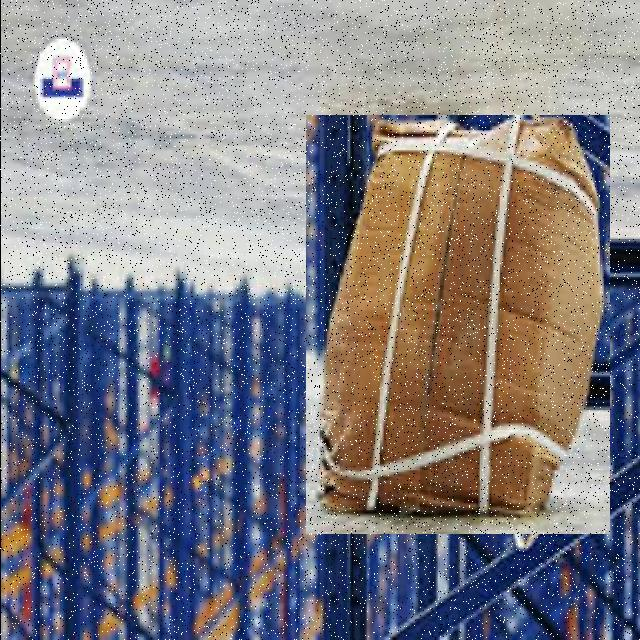defect: (305, 115, 609, 534)
